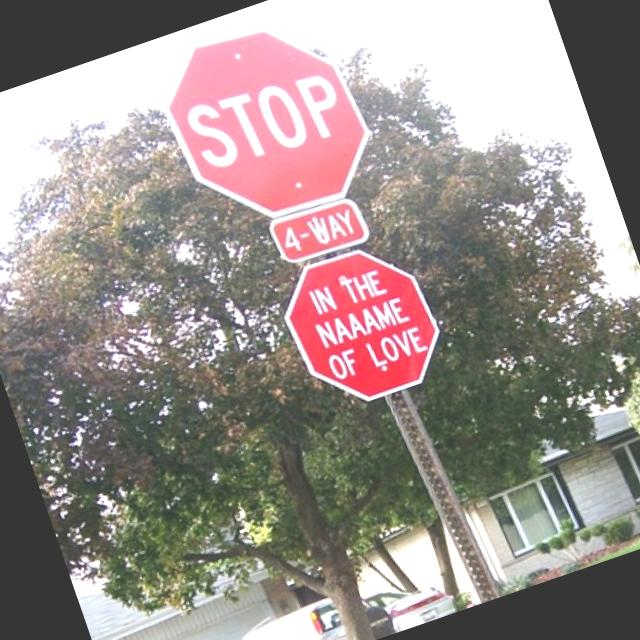Vehicle: (178, 577, 396, 640), (363, 568, 459, 638)
